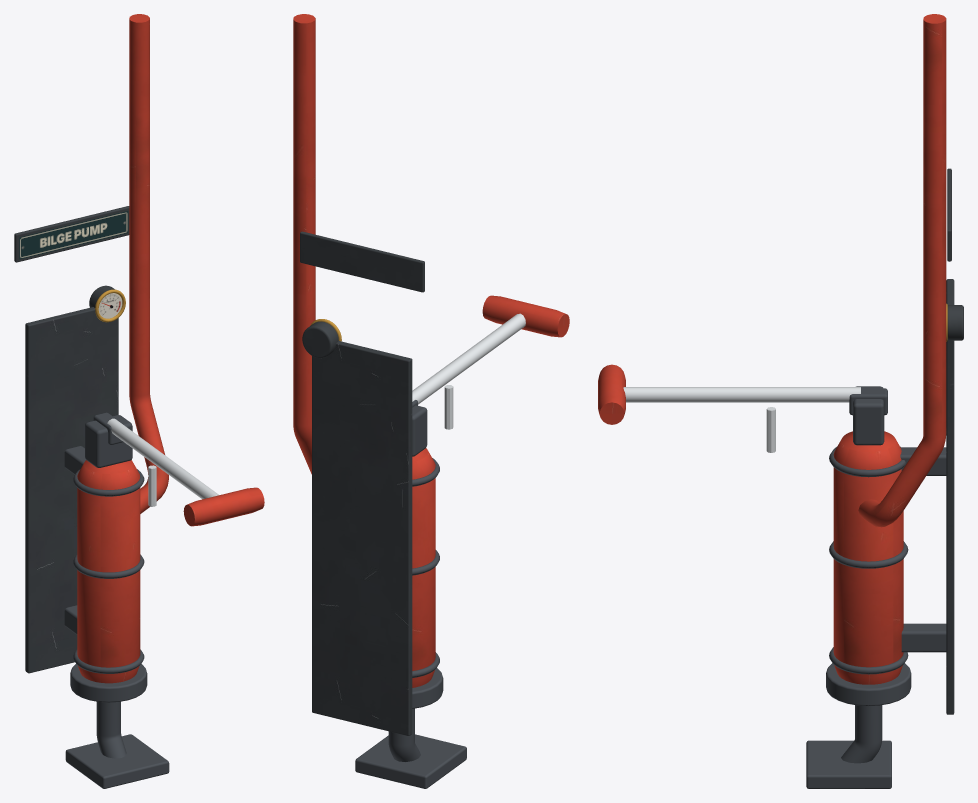
The model's file is BilgePump.glb.
3 renders of one model, left to right at view 1: azimuth 30°, elevation 25°; view 2: azimuth 150°, elevation 25°; view 3: azimuth 270°, elevation 25°, orthographic. The views are drawn at different scales.
Parts seen in each view (by area): view 1: BilgePump_Body, BilgePump_Lever; view 2: BilgePump_Body, BilgePump_Lever; view 3: BilgePump_Body, BilgePump_Lever.
Part boxes in pixels (bbox=[...]): BilgePump_Body: bbox=[14, 14, 169, 788]; BilgePump_Lever: bbox=[93, 412, 264, 526]; BilgePump_Body: bbox=[293, 14, 466, 788]; BilgePump_Lever: bbox=[412, 295, 569, 429]; BilgePump_Body: bbox=[806, 14, 963, 788]; BilgePump_Lever: bbox=[598, 364, 887, 452].
Size of the model in its own units: 0.4196 by 2.24 by 0.941.
8 materials, 4 textured.
